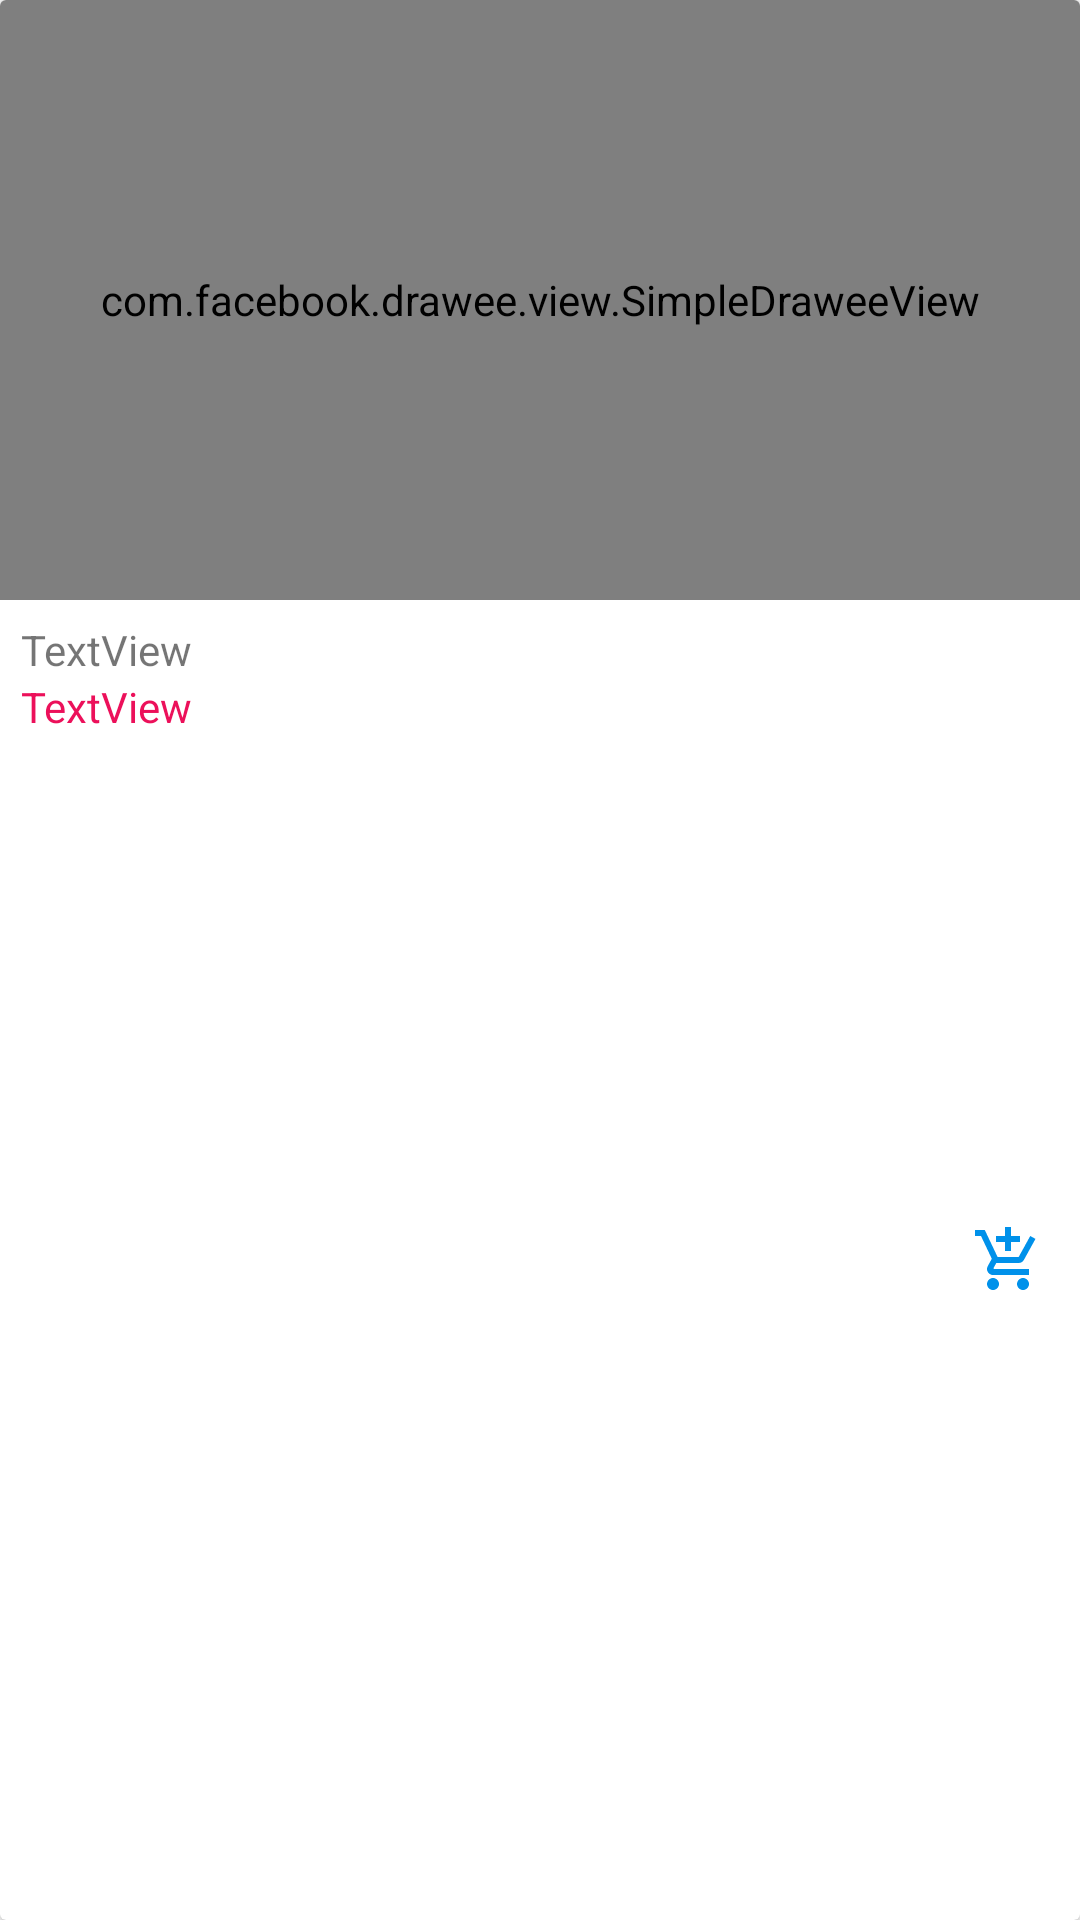

Locate icon controls on the screen. Image size 1080px×1920px, boxes as box(x1, y1, x2, y2).
add shopping cart: box(975, 1227, 1036, 1290)
